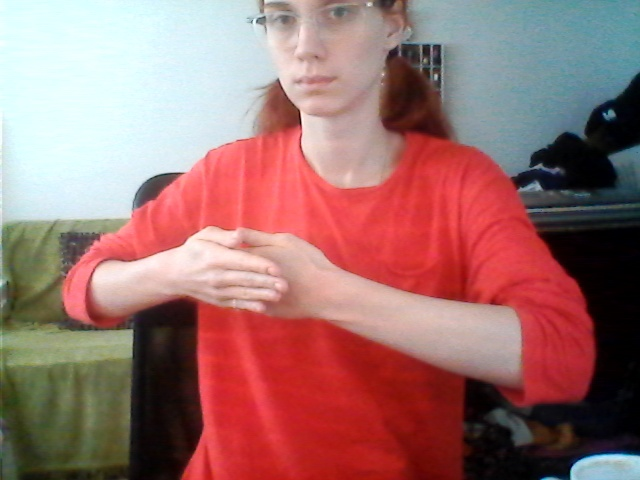dvere: (172, 224, 347, 334)
